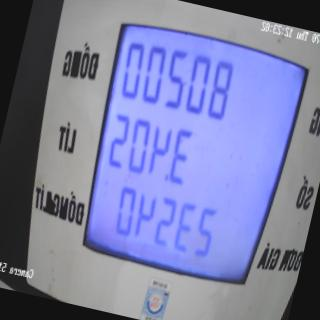screen: (63, 0, 318, 299)
